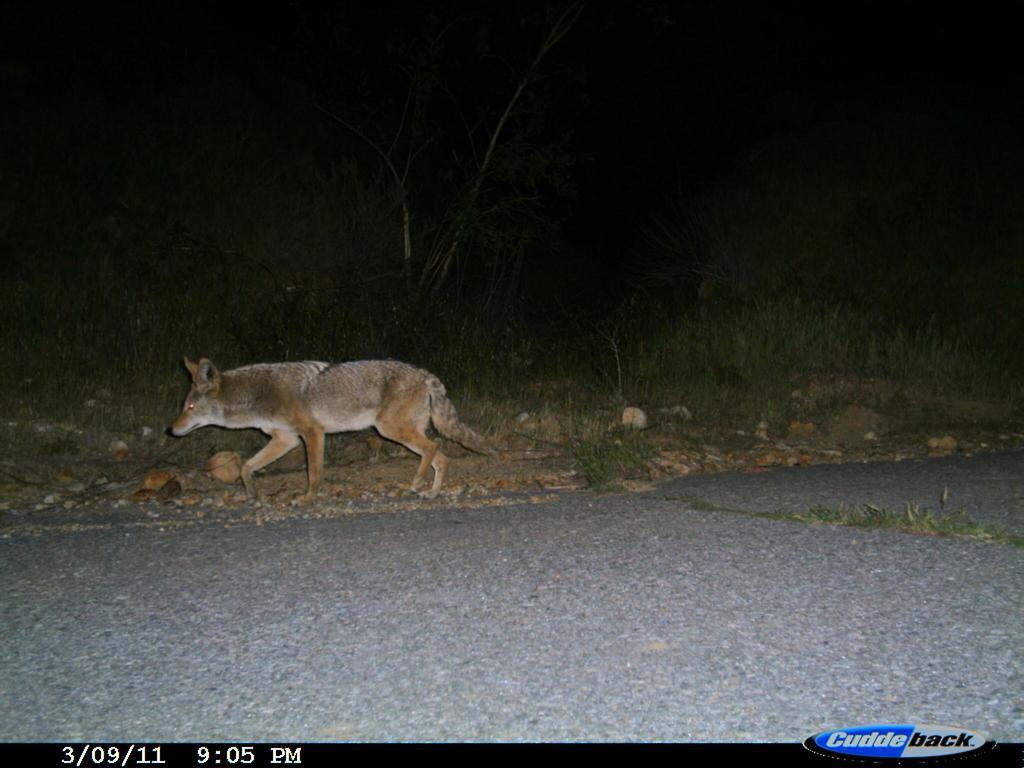coyote: (159, 350, 506, 514)
